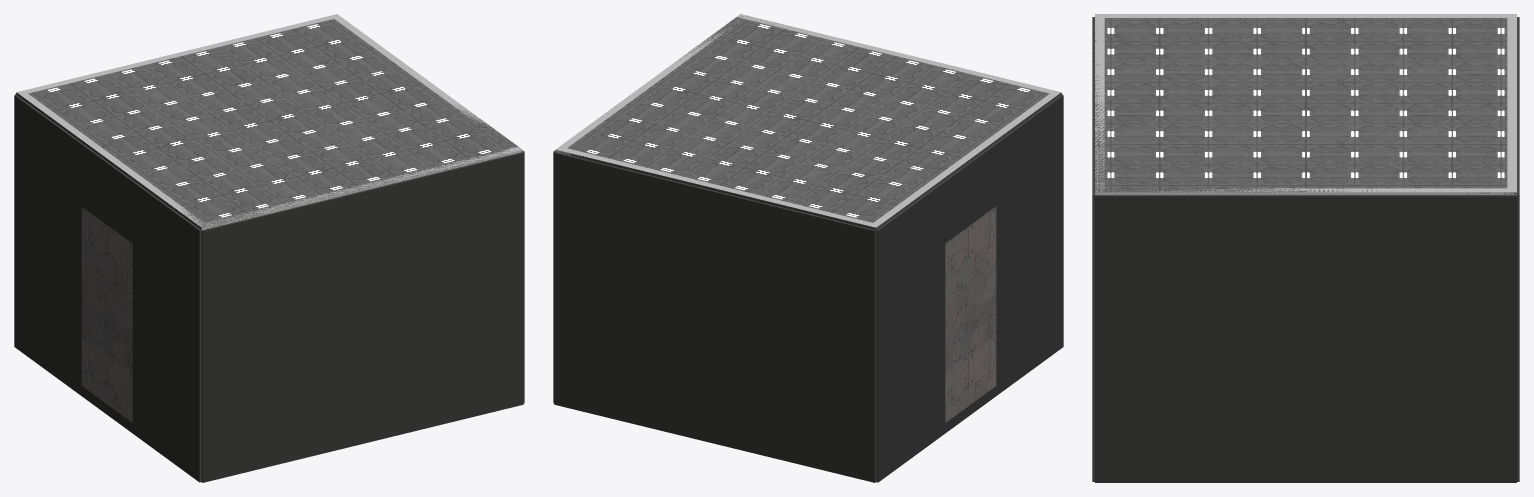
File: FirstRoomfbx.fbx
3 views of the same model, side by side, from view 1: azimuth 30°, elevation 25°; view 2: azimuth 150°, elevation 25°; view 3: azimuth 270°, elevation 25° (orthographic). The views are drawn at different scales.
Parts seen in each view (by area): view 1: Floor, Floor.001, Corner; view 2: Floor, Floor.001, Corner; view 3: Floor, Corner.
Boxes of the visible parts, x1=… form: Floor: x1=14, y1=19, x2=524, y2=482; Floor.001: x1=83, y1=208, x2=132, y2=420; Corner: x1=17, y1=14, x2=522, y2=230; Floor: x1=553, y1=14, x2=1063, y2=482; Floor.001: x1=945, y1=208, x2=994, y2=420; Corner: x1=555, y1=14, x2=1060, y2=228; Floor: x1=1092, y1=15, x2=1519, y2=482; Corner: x1=1095, y1=14, x2=1516, y2=194.
Size of the model in its own units: 810 by 606 by 810.
